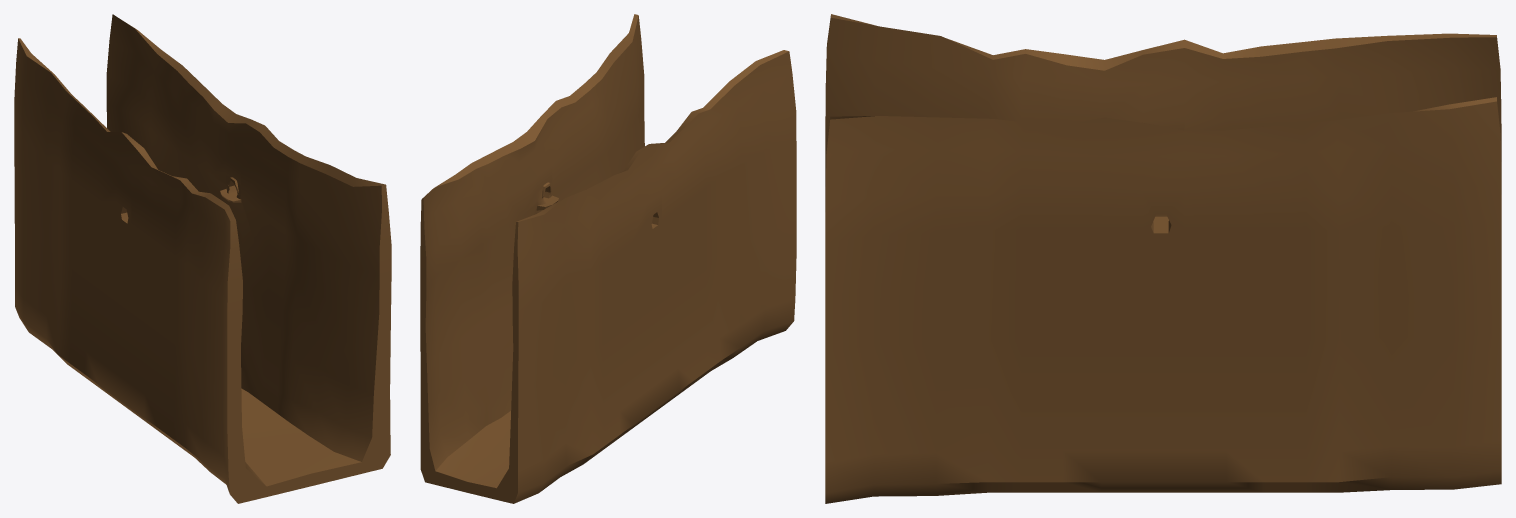
Rendered from Canyon_03.fbx.
3 renders of one model, left to right at view 1: azimuth 30°, elevation 25°; view 2: azimuth 150°, elevation 25°; view 3: azimuth 270°, elevation 25°, orthographic. The views are drawn at different scales.
Parts seen in each view (by area): view 1: pCube2; view 2: pCube2; view 3: pCube2.
Boxes of the visible parts, x1=… form: pCube2: x1=14, y1=14, x2=391, y2=503; pCube2: x1=420, y1=14, x2=796, y2=503; pCube2: x1=825, y1=14, x2=1501, y2=503.
Bounding box in the file's own units: 66.54 × 110 × 172.
